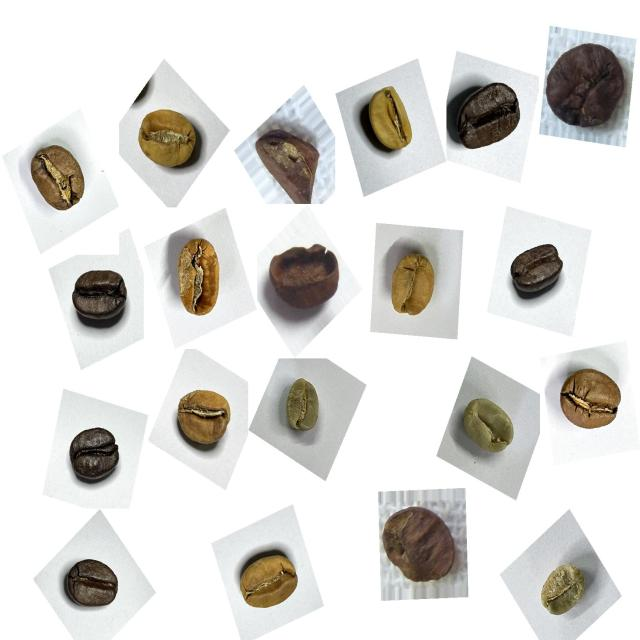bad: (539, 31, 634, 140), (373, 493, 465, 598), (259, 230, 345, 329), (249, 114, 329, 208)
dark: (446, 71, 530, 166), (501, 231, 576, 315), (63, 258, 134, 342), (52, 546, 127, 622), (60, 409, 127, 494)
green: (450, 386, 525, 470), (530, 554, 598, 632), (277, 369, 333, 444)
light: (228, 532, 310, 623), (164, 226, 236, 328), (131, 98, 212, 186), (165, 374, 242, 465), (378, 237, 447, 332), (352, 79, 422, 168)
medium: (547, 357, 630, 446), (20, 136, 96, 227)
